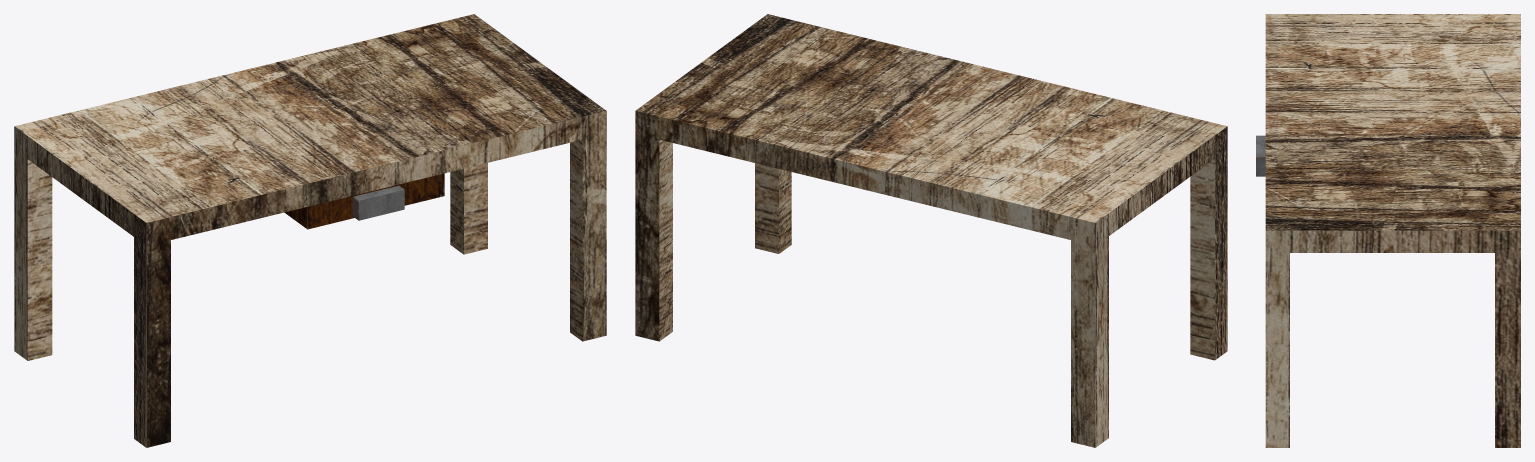
File: table.glb
The picture shows the model from 3 angles, left to right: view 1: azimuth 30°, elevation 25°; view 2: azimuth 150°, elevation 25°; view 3: azimuth 270°, elevation 25°; orthographic projection. The views are drawn at different scales.
Visible parts, largest first — view 1: Cube; view 2: Cube; view 3: Cube.
Boxes of the visible parts, <box> form: Cube: <box>14,14,606,447</box>; Cube: <box>635,14,1227,447</box>; Cube: <box>1256,14,1520,447</box>.
Bounding box in the file's own units: 4.87 × 2.28 × 2.51.
1 material, 1 textured.
